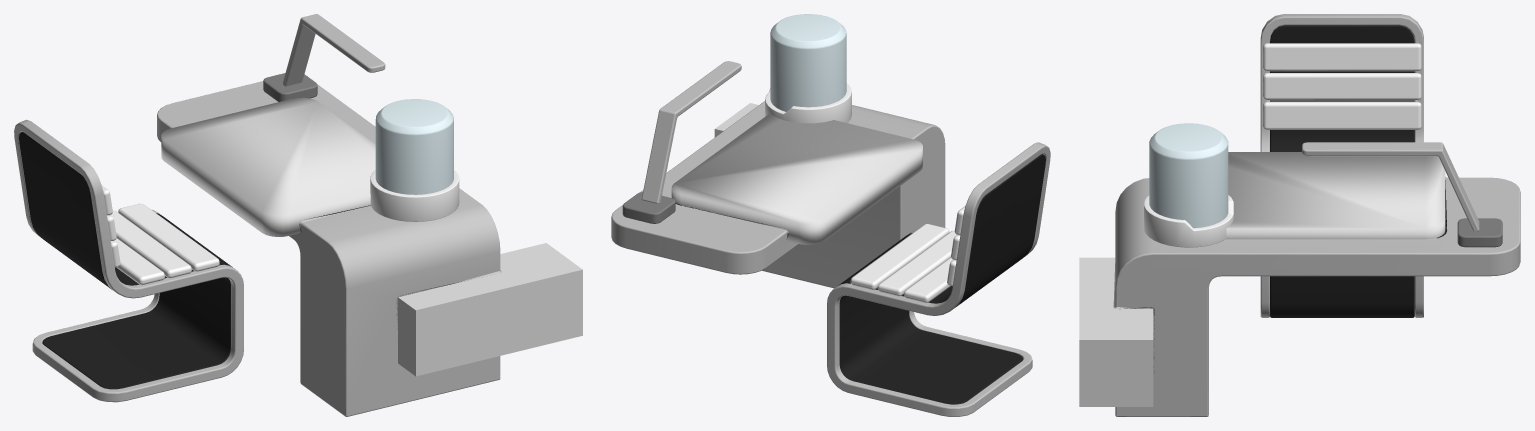
Rendered from everything.fbx.
The picture shows the model from 3 angles, left to right: view 1: azimuth 30°, elevation 25°; view 2: azimuth 150°, elevation 25°; view 3: azimuth 270°, elevation 25°; orthographic projection. The views are drawn at different scales.
Visible parts, largest first — view 1: Desk, Cube, Chair, Cube.001, Plane.002, Circle, Plane.003, Plane.005, Plant, Lamp; view 2: Desk, Cube, Chair, Plane.002, Circle, Plane.003, Plane.005, Plant, Lamp; view 3: Desk, Cube, Plane.003, Chair, Cube.001, Circle, Plane.002, Plane.005, Plant, Lamp.
Part boxes in pixels (<box>): Desk: <box>157,81,501,416</box>; Cube: <box>161,97,375,236</box>; Chair: <box>19,132,232,389</box>; Cube.001: <box>398,243,582,376</box>; Plane.002: <box>14,119,243,402</box>; Circle: <box>375,99,453,194</box>; Plane.003: <box>102,185,219,284</box>; Plane.005: <box>283,14,385,86</box>; Plant: <box>370,170,459,221</box>; Lamp: <box>263,73,317,101</box>; Desk: <box>611,101,945,288</box>; Cube: <box>671,113,922,244</box>; Chair: <box>838,154,1045,404</box>; Plane.002: <box>827,142,1050,416</box>; Circle: <box>770,14,846,111</box>; Plane.003: <box>850,206,965,302</box>; Plane.005: <box>641,61,741,203</box>; Plant: <box>765,83,851,123</box>; Lamp: <box>622,192,675,223</box>; Desk: <box>1113,176,1520,416</box>; Cube: <box>1226,152,1445,239</box>; Plane.003: <box>1263,43,1421,129</box>; Chair: <box>1270,25,1414,317</box>; Cube.001: <box>1079,257,1153,406</box>; Circle: <box>1149,123,1228,228</box>; Plane.002: <box>1260,14,1423,317</box>; Plane.005: <box>1302,142,1479,231</box>; Plant: <box>1144,195,1233,247</box>; Lamp: <box>1457,218,1502,247</box>.
Size of the model in its own units: 518 by 313 by 487.
